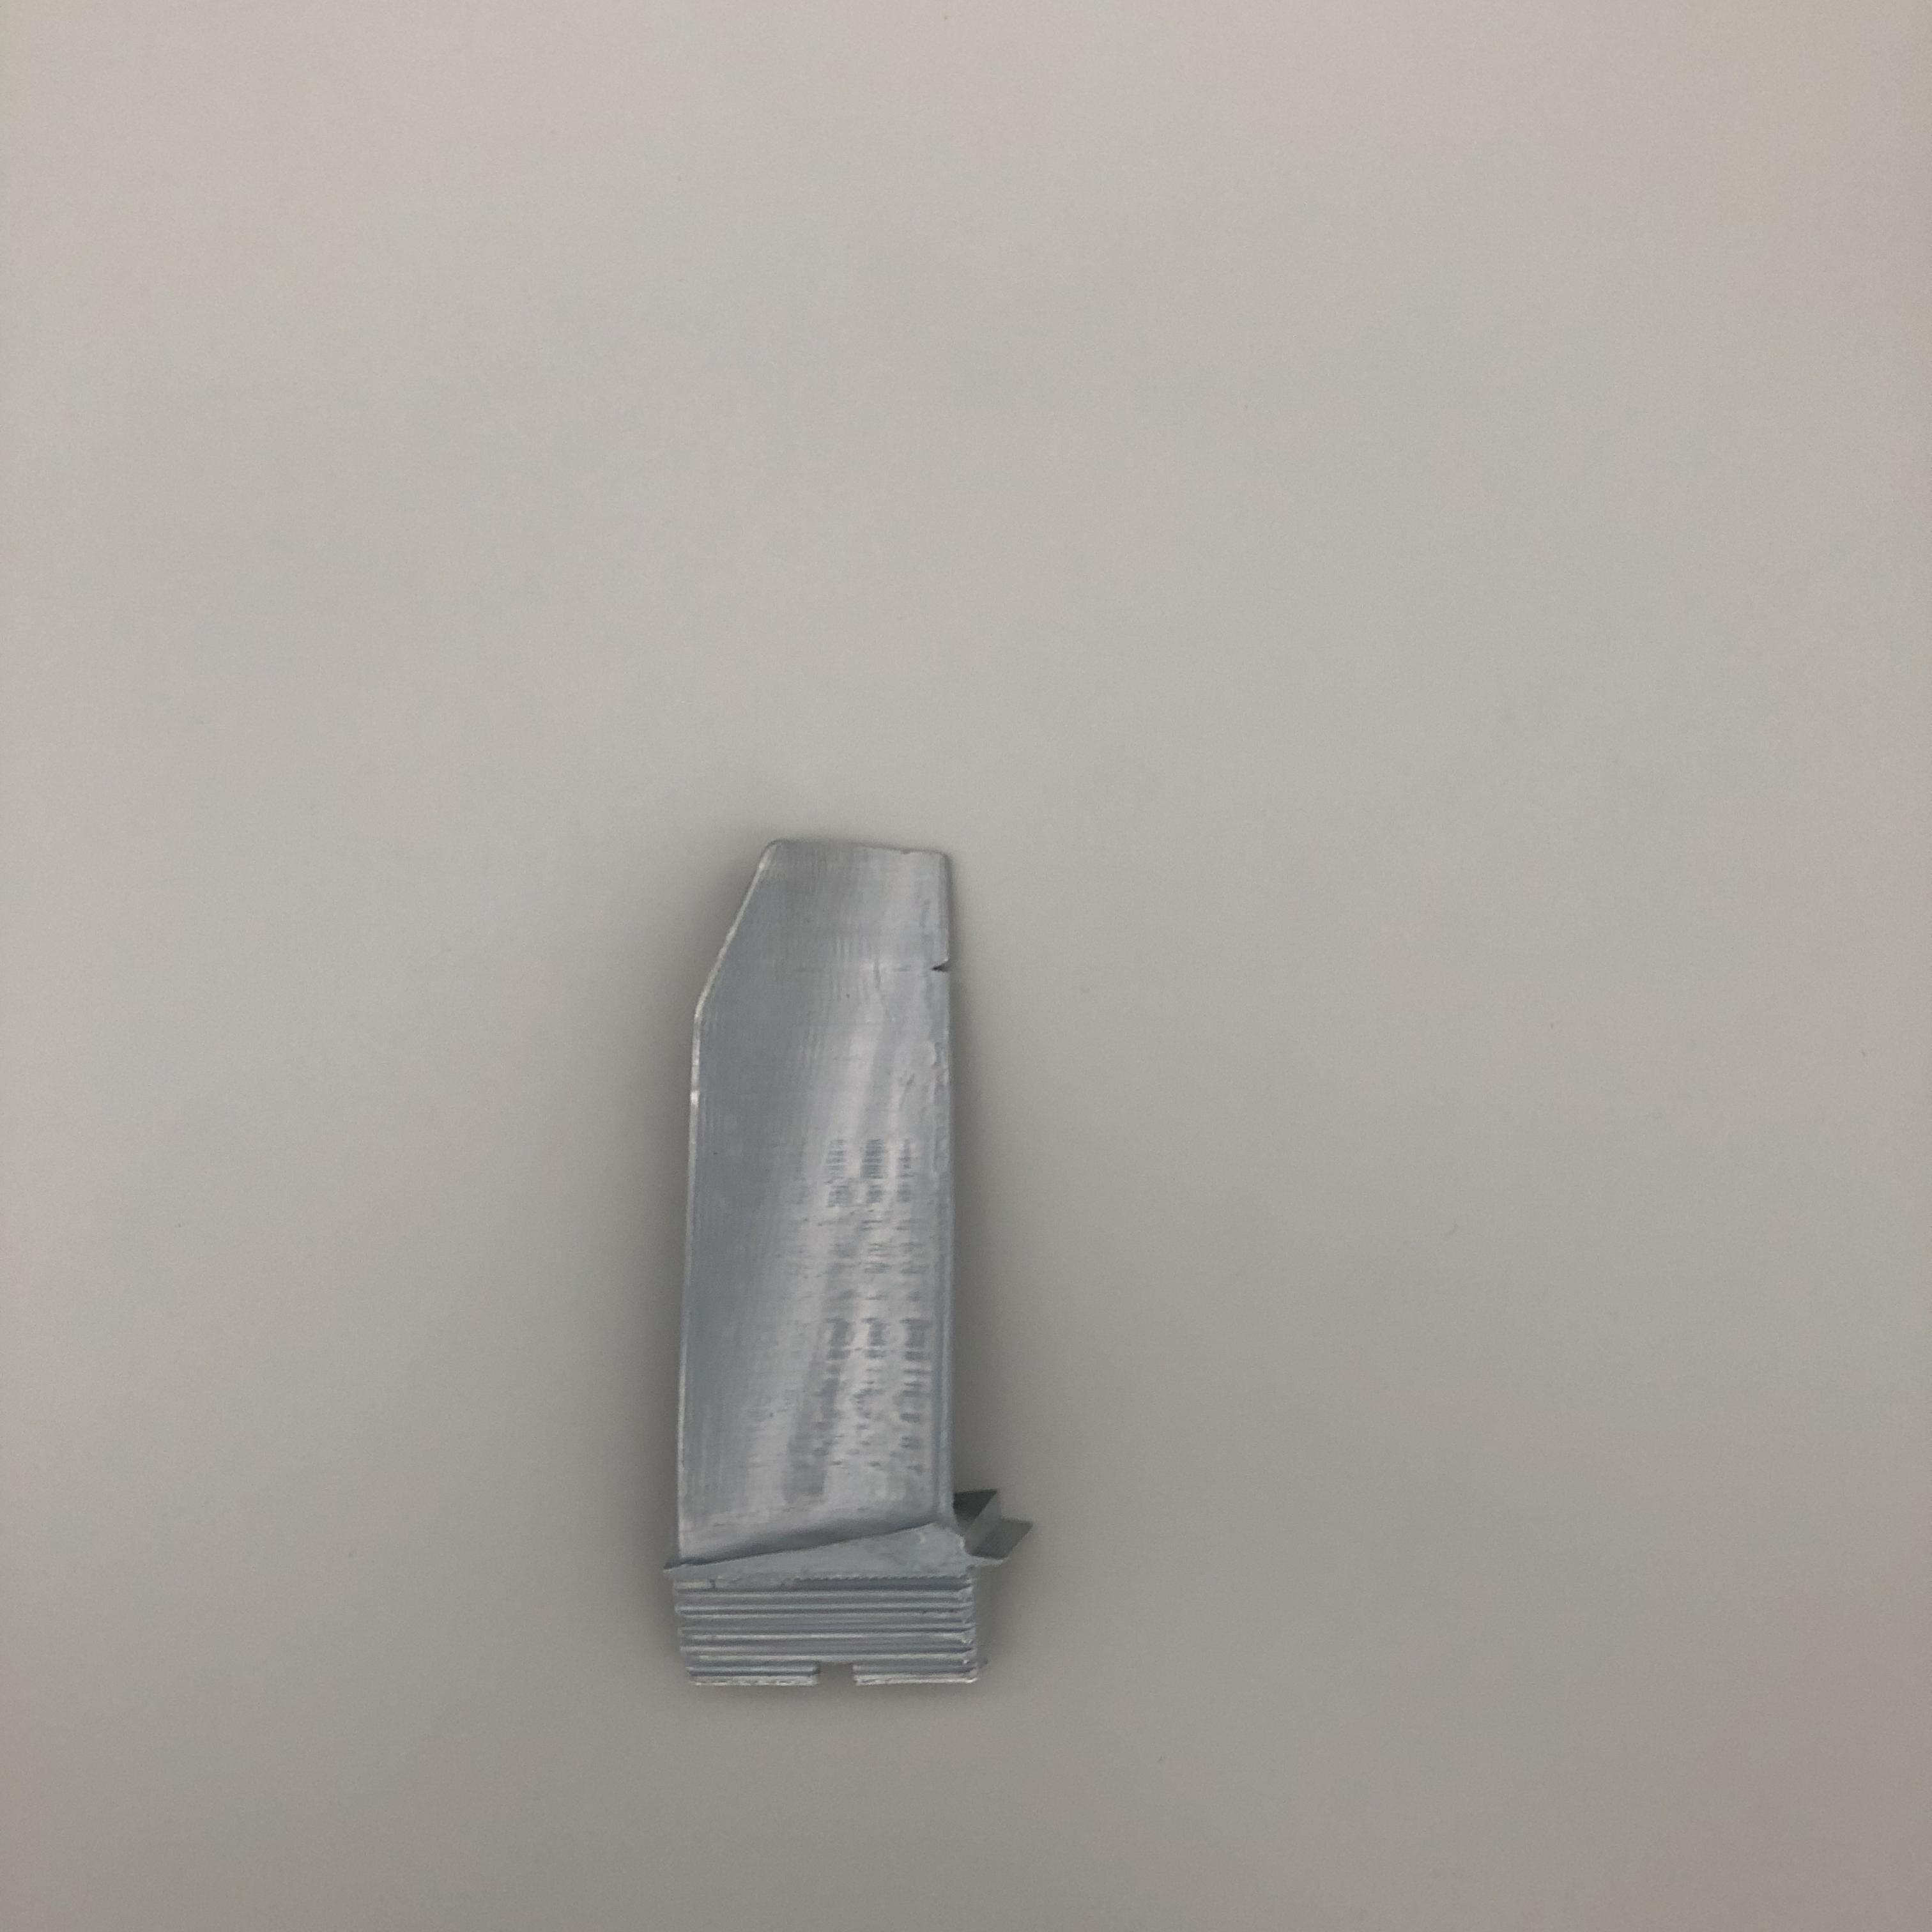groove: (929, 952, 957, 993)
